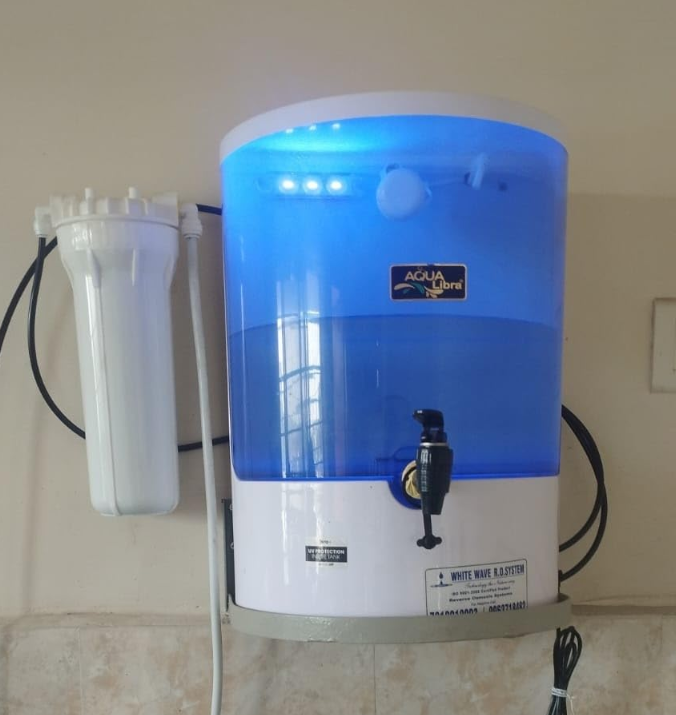water purifier: (215, 85, 574, 644)
